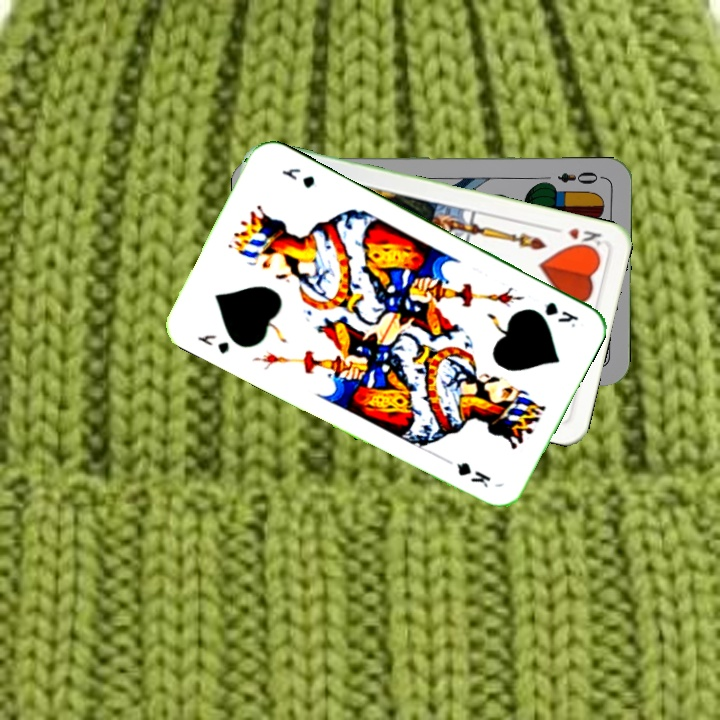EO: (553, 167, 606, 187)
GK: (541, 297, 581, 330), (193, 330, 232, 357)
HK: (564, 223, 606, 254)
